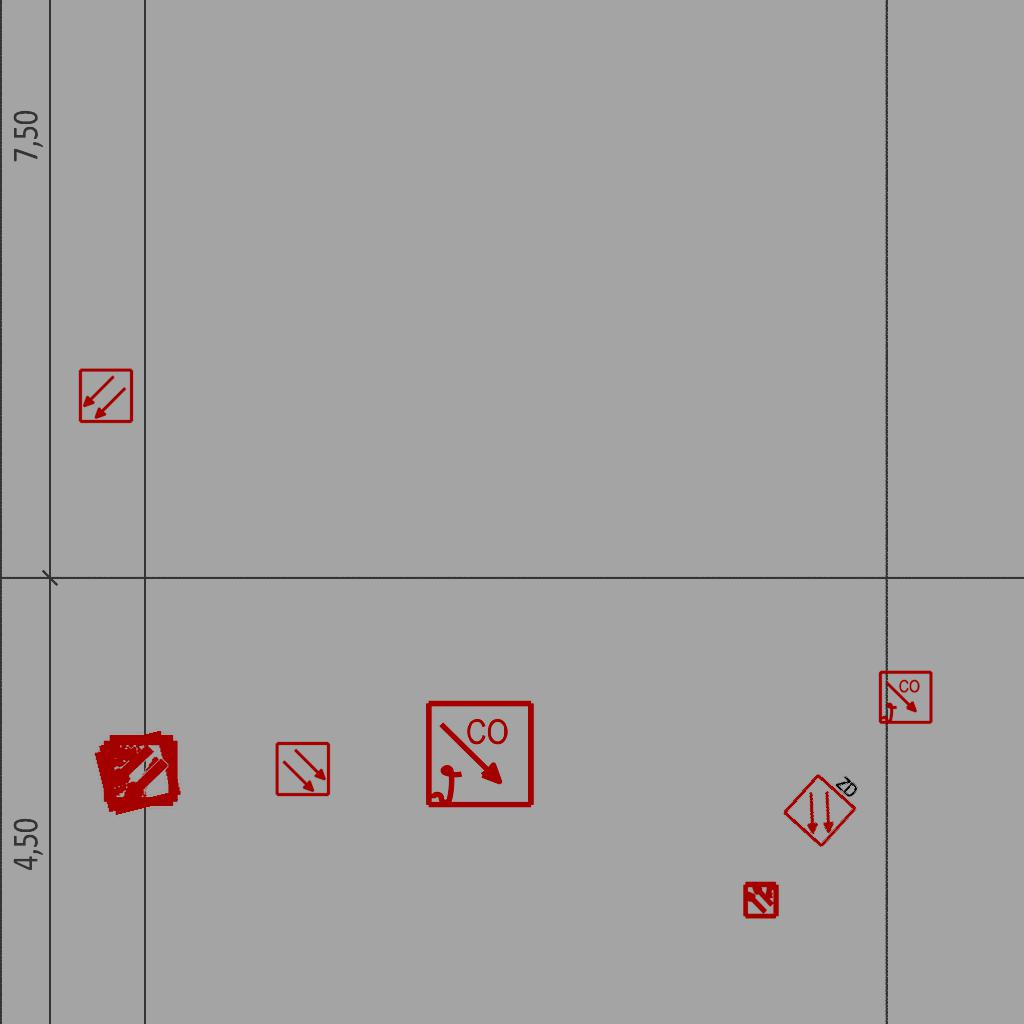OT_Multisensormelder_(Kombination_RMO_WMD): (67, 705, 204, 842), (82, 714, 195, 827), (733, 871, 789, 927)
RMO_Rauchmelder_optischer: (78, 368, 134, 424), (275, 741, 331, 797)
ROA_Rauchmelder_optisch_mit_Signalgeber_(Sockelsirene): (424, 699, 537, 812), (878, 670, 934, 726)
ZD_Melder_in_Zwischendecke_mit_Revisionsoeffnung_mind_40_x_40_cm: (779, 756, 872, 850)
